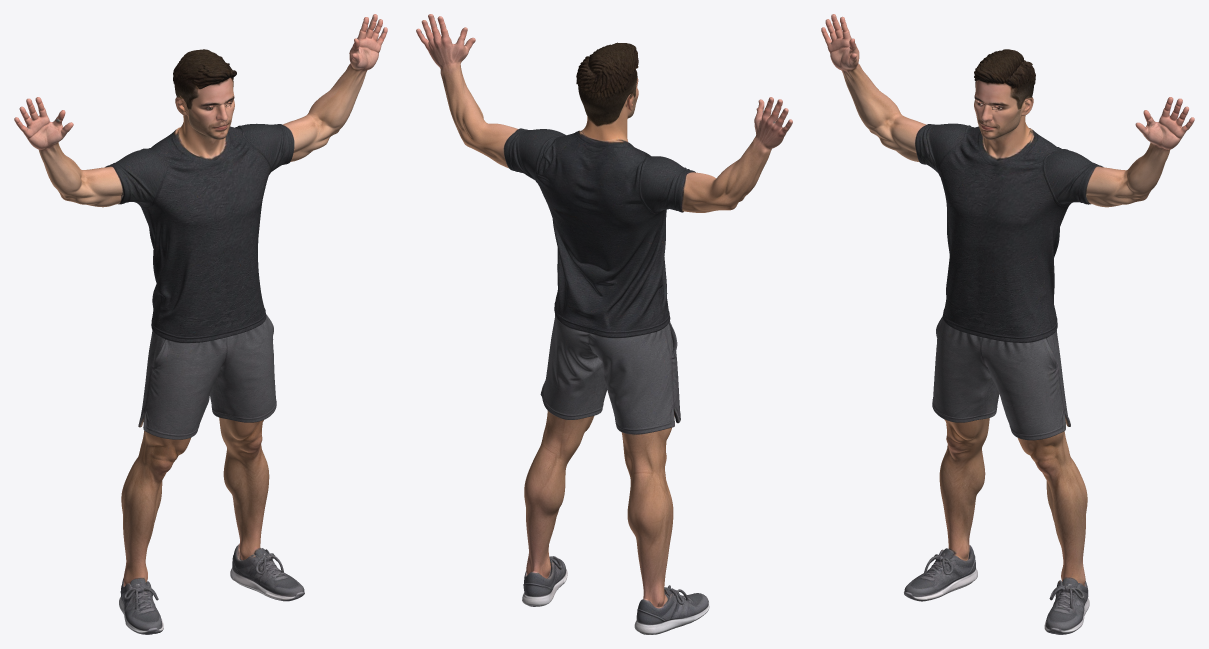
The model's file is meshy_textured.glb.
3 renders of one model, left to right at view 1: azimuth 30°, elevation 25°; view 2: azimuth 150°, elevation 25°; view 3: azimuth 330°, elevation 25°, orthographic.
Bounding box in the file's own units: 1.34 × 1.9 × 0.2904.
1 material, 1 textured.
